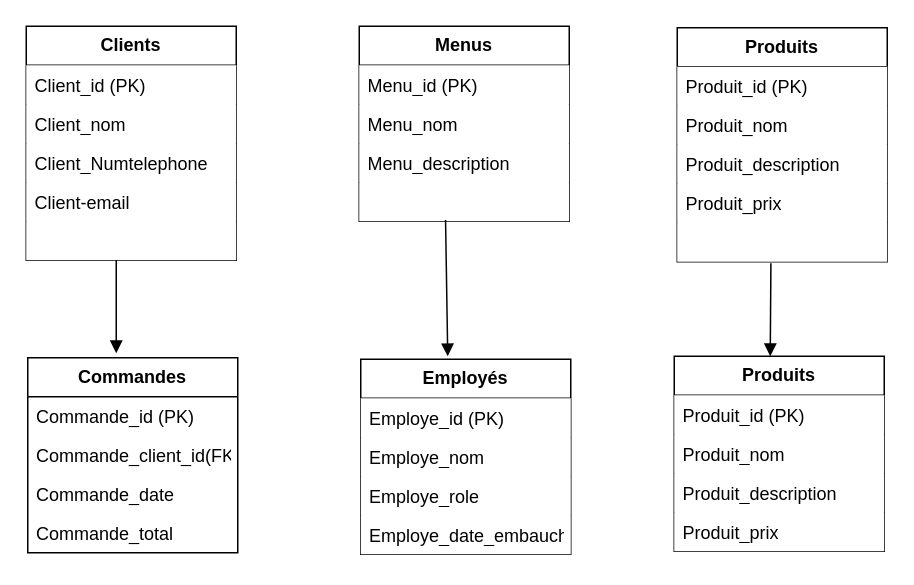
Image size: 914x585. Some labels were removed from this diagram. The centre of each missing label's shape, as x and y in pixels:
client_adresse: pixel 131 240
Menu_prix: pixel 463 201
Produit_menu_id (FK): pixel 781 241
